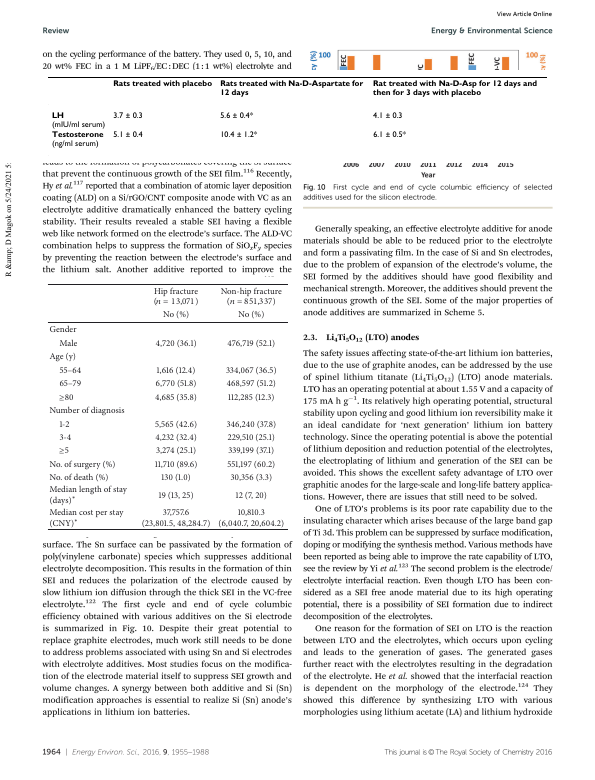borderless: (46, 282, 288, 529), (46, 75, 548, 157)
cell: (372, 80, 537, 98), (219, 80, 364, 98), (48, 484, 128, 506), (48, 507, 124, 529), (141, 507, 211, 529), (217, 507, 285, 529), (220, 286, 283, 309), (50, 111, 106, 130), (153, 286, 199, 309), (50, 131, 104, 149), (112, 80, 213, 89), (48, 405, 126, 416), (48, 459, 116, 469), (48, 472, 109, 483), (225, 365, 278, 376), (225, 419, 277, 430), (226, 338, 276, 349), (227, 432, 276, 443), (226, 379, 277, 389), (226, 459, 276, 469), (154, 338, 198, 349), (154, 419, 198, 430), (154, 432, 198, 443), (229, 472, 273, 483), (227, 392, 275, 402), (227, 446, 275, 456), (156, 365, 196, 376), (154, 392, 198, 402), (154, 459, 198, 469), (155, 379, 197, 389), (155, 446, 197, 456), (219, 130, 258, 140), (157, 490, 195, 500), (160, 472, 192, 483), (219, 111, 254, 121), (372, 130, 406, 140), (48, 324, 78, 335), (235, 490, 268, 500), (48, 351, 77, 362), (112, 111, 143, 121), (372, 111, 403, 121), (112, 130, 143, 140), (162, 310, 190, 320), (237, 310, 265, 320), (58, 365, 82, 376), (58, 379, 82, 389), (58, 389, 74, 404), (58, 338, 78, 349), (58, 442, 70, 458), (58, 432, 72, 443), (58, 419, 70, 430)
